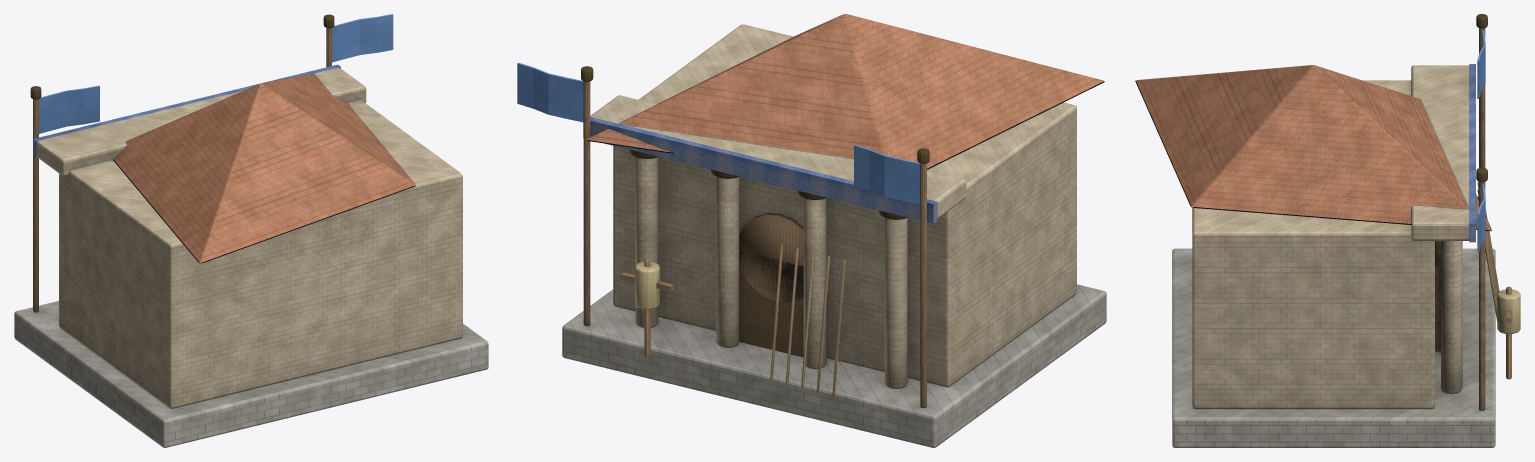
Rendered from barracks_iran.glb.
The picture shows the model from 3 angles, left to right: view 1: azimuth 30°, elevation 25°; view 2: azimuth 150°, elevation 25°; view 3: azimuth 270°, elevation 25°; orthographic projection. The views are drawn at different scales.
Visible parts, largest first — view 1: barracks_iran; view 2: barracks_iran; view 3: barracks_iran.
Part boxes in pixels (<box>): barracks_iran: <box>14,14,488,447</box>; barracks_iran: <box>517,14,1106,447</box>; barracks_iran: <box>1135,14,1520,447</box>.
Size of the model in its own units: 6.84 by 4.89 by 5.73.
Materials: 1 (1 with a texture image).
